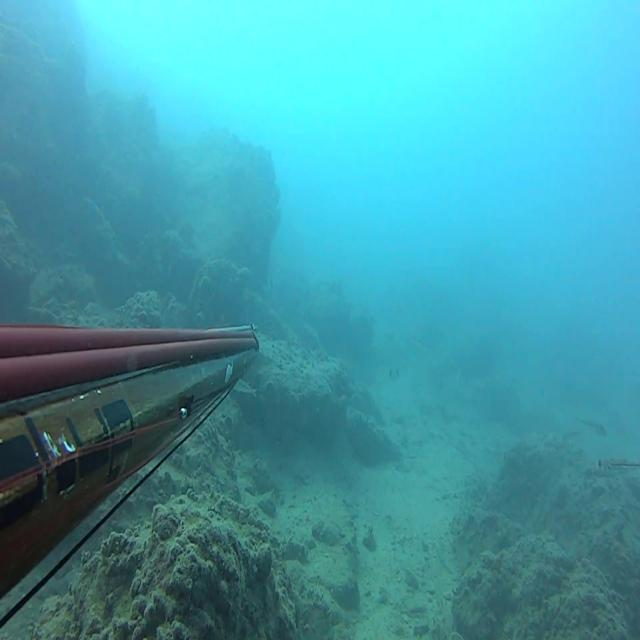Balon Baligi: (594, 458, 640, 476), (577, 418, 607, 436), (232, 378, 257, 398), (389, 368, 398, 380)
